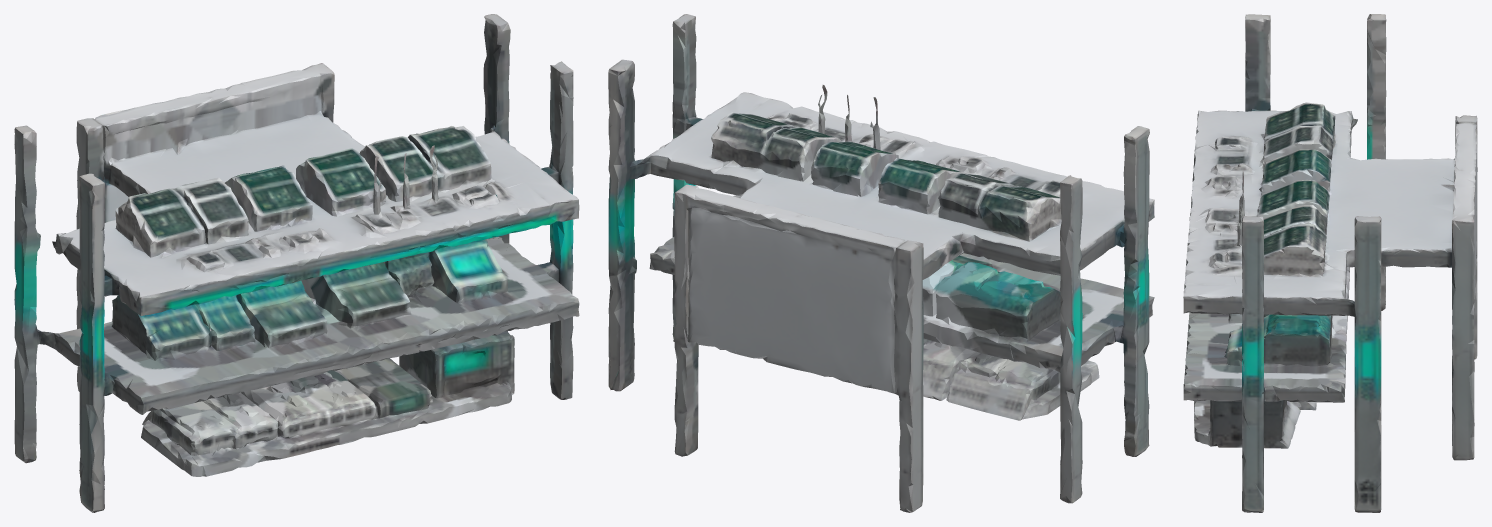
The model's file is CK1_IntegrationBench.glb.
The picture shows the model from 3 angles, left to right: view 1: azimuth 30°, elevation 25°; view 2: azimuth 150°, elevation 25°; view 3: azimuth 270°, elevation 25°; orthographic projection. The views are drawn at different scales.
Parts seen in each view (by area): view 1: CK1_IntegrationBench; view 2: CK1_IntegrationBench; view 3: CK1_IntegrationBench.
Part boxes in pixels (<box>): CK1_IntegrationBench: <box>14,14,579,512</box>; CK1_IntegrationBench: <box>608,14,1154,512</box>; CK1_IntegrationBench: <box>1183,14,1477,512</box>.
Bounding box in the file's own units: 1.52 × 1 × 0.91.
1 material, 1 textured.
